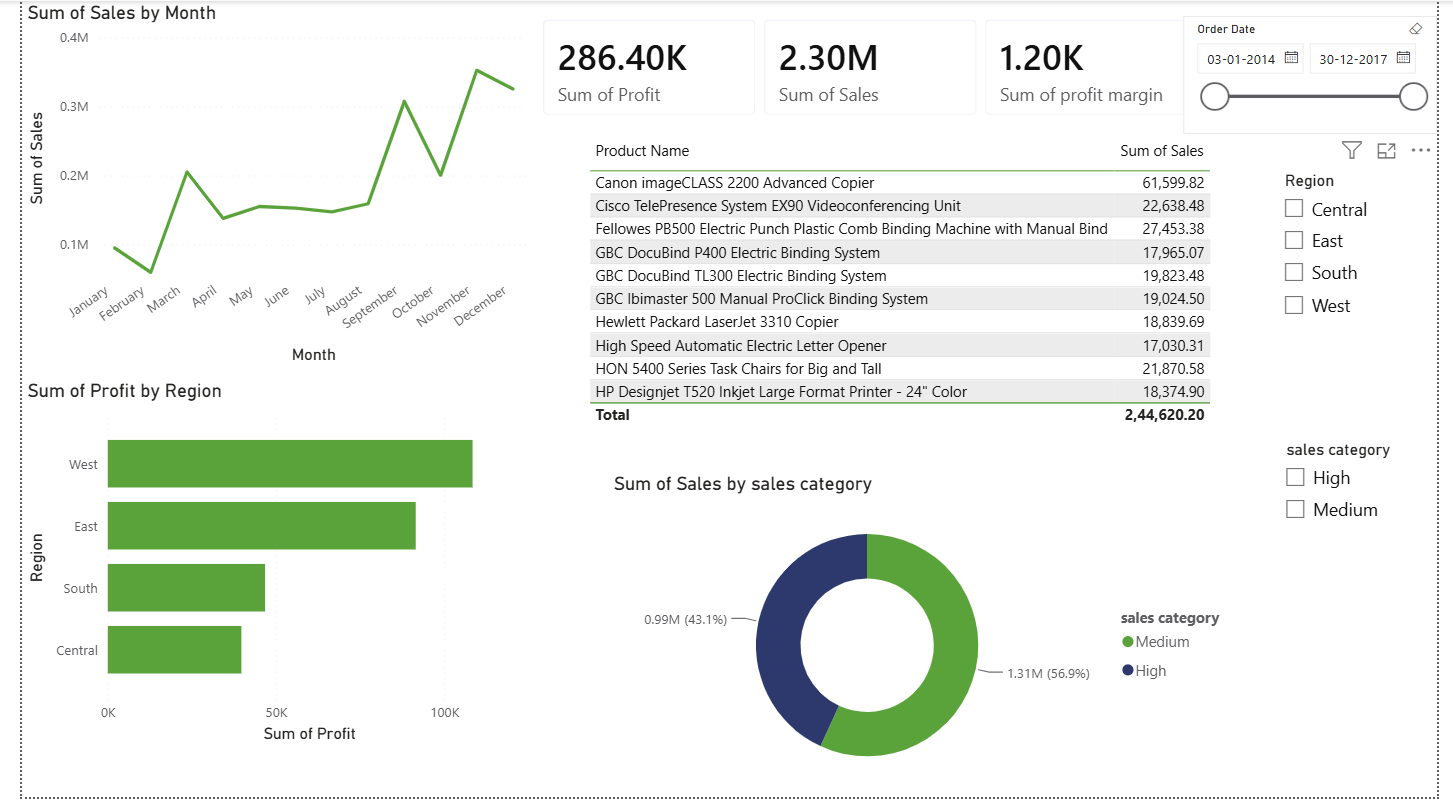

The dashboard page shown, as its layout file describes it:
{"tool":"powerbi","page":{"name":"Page 1","canvas":[1280,720],"ordinal":0},"visuals":[{"type":"lineChart","fields":{"Y":["Sum(Sample___Superstore_1.Sales)"],"Category":["Sample___Superstore_1.Order Date.Variation.Date Hierarchy.Month"]},"box":[0,0,462.4,333.4],"z":0},{"type":"barChart","fields":{"Y":["Sum(Sample___Superstore_1.Profit)"],"Category":["Sample___Superstore_1.Region"]},"box":[0,343,462,333],"z":1000},{"type":"tableEx","fields":{"Values":["Sample___Superstore_1.Product Name","Sum(Sample___Superstore_1.Sales)"]},"box":[507.3,120.1,576.1,277.9],"z":2000},{"type":"donutChart","fields":{"Category":["Sample___Superstore_1.sales category"],"Y":["Sum(Sample___Superstore_1.Sales)"]},"box":[530.2,426.3,574.7,294.1],"z":3000},{"type":"cardVisual","fields":{"Data":["Sum(Sample___Superstore_1.Profit)","Sum(Sample___Superstore_1.Sales)","Sum(Sample___Superstore_1.profit margin)"]},"box":[454.6,0,628.7,120.1],"z":4000},{"type":"slicer","fields":{"Values":["Sample___Superstore_1.Region"]},"box":[1129.2,149.7,151.1,167.3],"z":5000},{"type":"slicer","fields":{"Values":["Sample___Superstore_1.Order Date"]},"box":[1050.9,13.5,229.3,106.6],"z":5001},{"type":"slicer","fields":{"Values":["Sample___Superstore_1.sales category"]},"box":[1130.5,392.6,149.7,117.4],"z":5002}]}

Visuals, with their boxes in screenshot pixels (x1, y1, x2, y2), scaled from the page's 1280x720 canvas onto the 1453x802 screenshot:
lineChart - Sum(Sample___Superstore_1.Sales) x Sample___Superstore_1.Order Date.Variation.Date Hierarchy.Month: {"left": 0, "top": 0, "right": 525, "bottom": 371}
barChart - Sum(Sample___Superstore_1.Profit) x Sample___Superstore_1.Region: {"left": 0, "top": 382, "right": 524, "bottom": 753}
tableEx - Sample___Superstore_1.Product Name x Sum(Sample___Superstore_1.Sales): {"left": 576, "top": 134, "right": 1230, "bottom": 443}
donutChart - Sample___Superstore_1.sales category x Sum(Sample___Superstore_1.Sales): {"left": 602, "top": 475, "right": 1254, "bottom": 801}
cardVisual - Sum(Sample___Superstore_1.Profit) x Sum(Sample___Superstore_1.Sales): {"left": 516, "top": 0, "right": 1230, "bottom": 134}
slicer - Sample___Superstore_1.Region: {"left": 1282, "top": 167, "right": 1452, "bottom": 353}
slicer - Sample___Superstore_1.Order Date: {"left": 1193, "top": 15, "right": 1452, "bottom": 134}
slicer - Sample___Superstore_1.sales category: {"left": 1283, "top": 437, "right": 1452, "bottom": 568}
